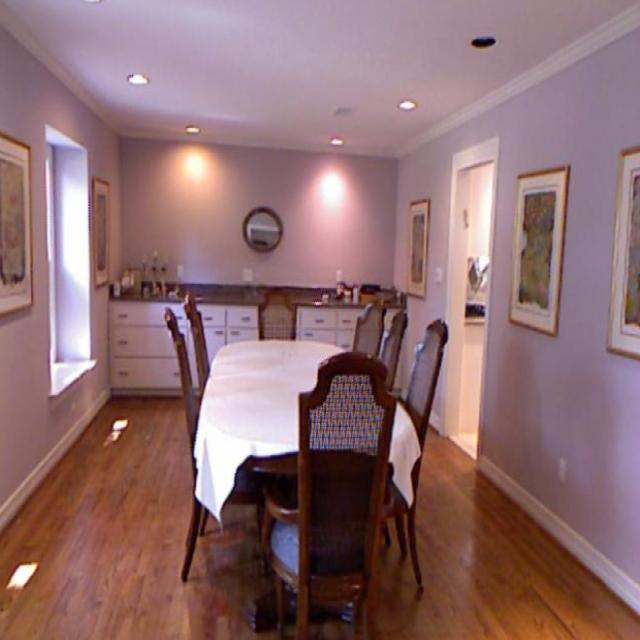door: (437, 130, 515, 485)
obstacle: (161, 272, 443, 622)
